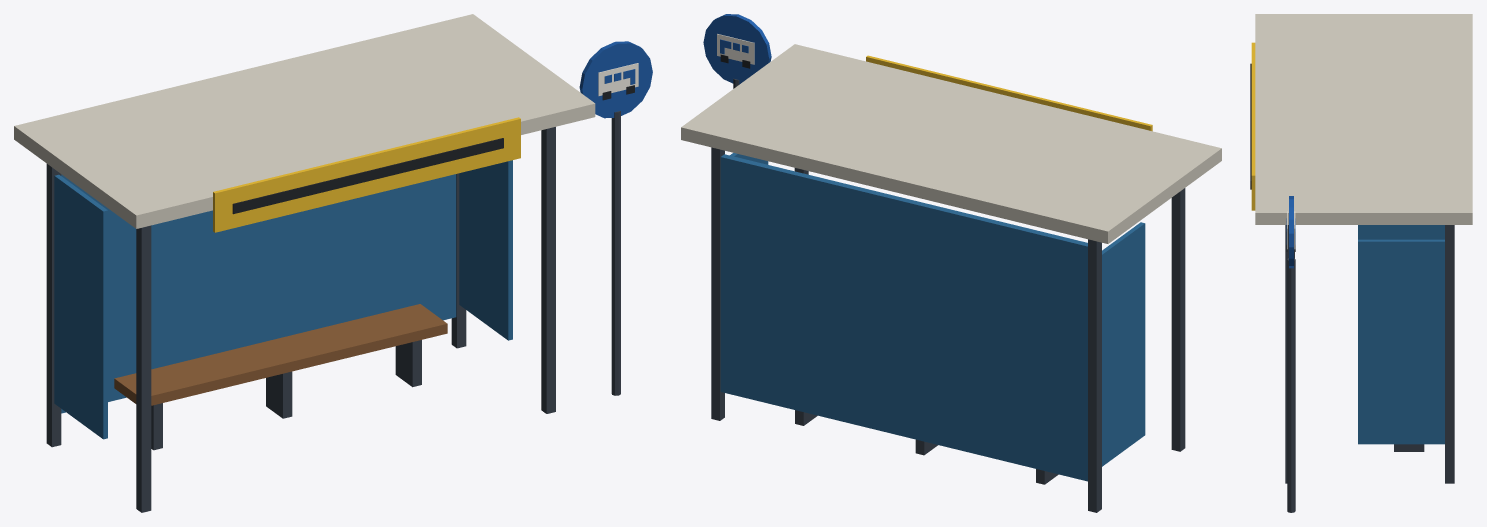
The model's file is prop_bus_shelter.glb.
3 views of the same model, side by side, from view 1: azimuth 30°, elevation 25°; view 2: azimuth 150°, elevation 25°; view 3: azimuth 270°, elevation 25° (orthographic). The views are drawn at different scales.
Parts seen in each view (by area): view 1: prop_bus_shelter; view 2: prop_bus_shelter; view 3: prop_bus_shelter.
Boxes of the visible parts, left/top/right/bottom form: prop_bus_shelter: left=14, top=14, right=652, bottom=512; prop_bus_shelter: left=681, top=14, right=1221, bottom=512; prop_bus_shelter: left=1250, top=14, right=1472, bottom=512.
Size of what is drawn, in the model's own units: 4.55 by 2.85 by 1.84.
